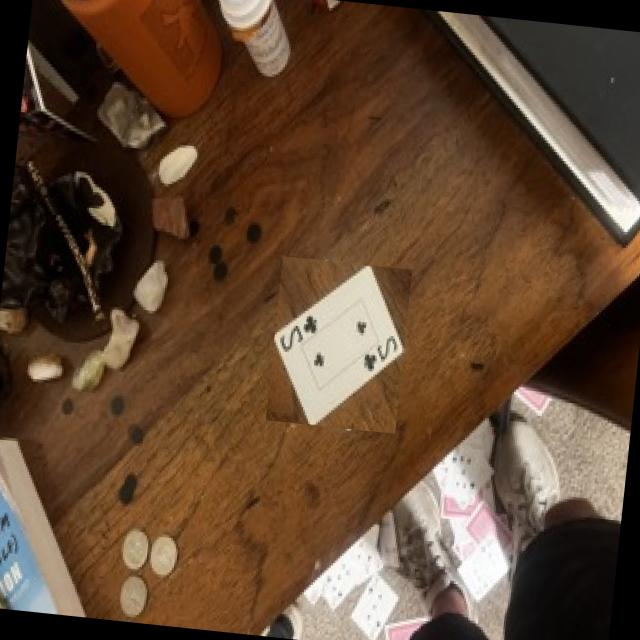2 of clubs: (274, 265, 403, 425)
